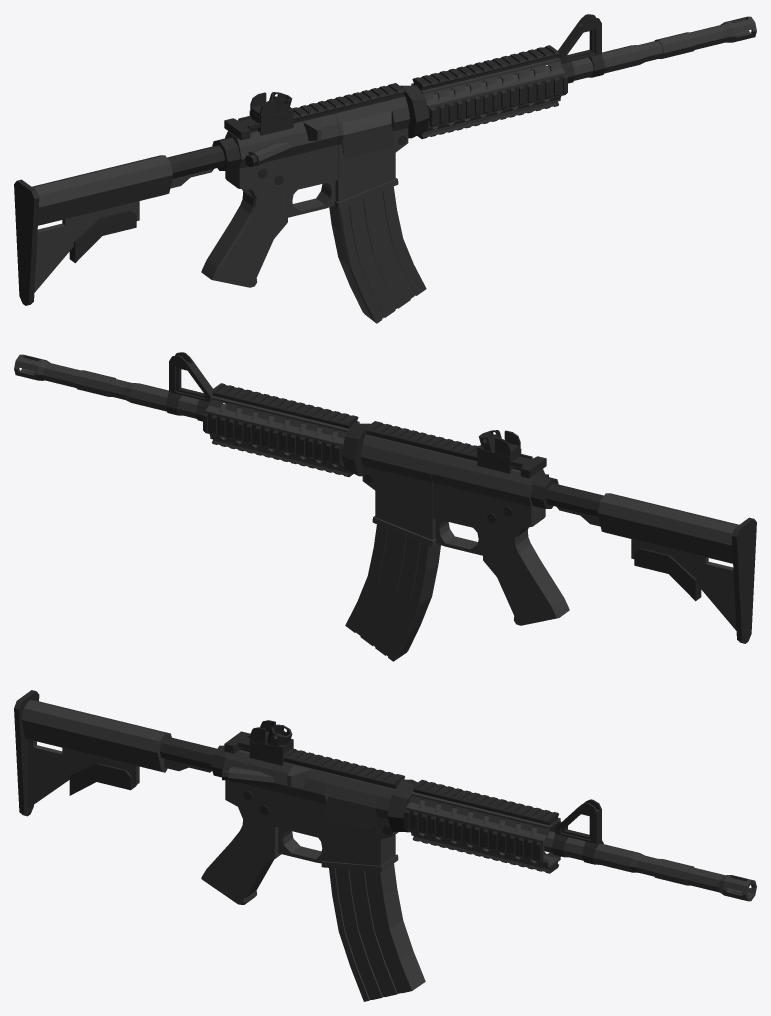
File: Rifle.gltf
3 renders of one model, top to bottom at view 1: azimuth 30°, elevation 25°; view 2: azimuth 150°, elevation 25°; view 3: azimuth 330°, elevation 25°, orthographic.
Parts seen in each view (by area): view 1: Weapon; view 2: Weapon; view 3: Weapon.
Boxes of the visible parts, x1,y1,x2,y2 form: Weapon: (14,14,756,323); Weapon: (14,352,756,661); Weapon: (14,690,756,1001).
Size of the model in its own units: 0.9841 by 0.3222 by 0.0717.
2 materials, 2 textured.
